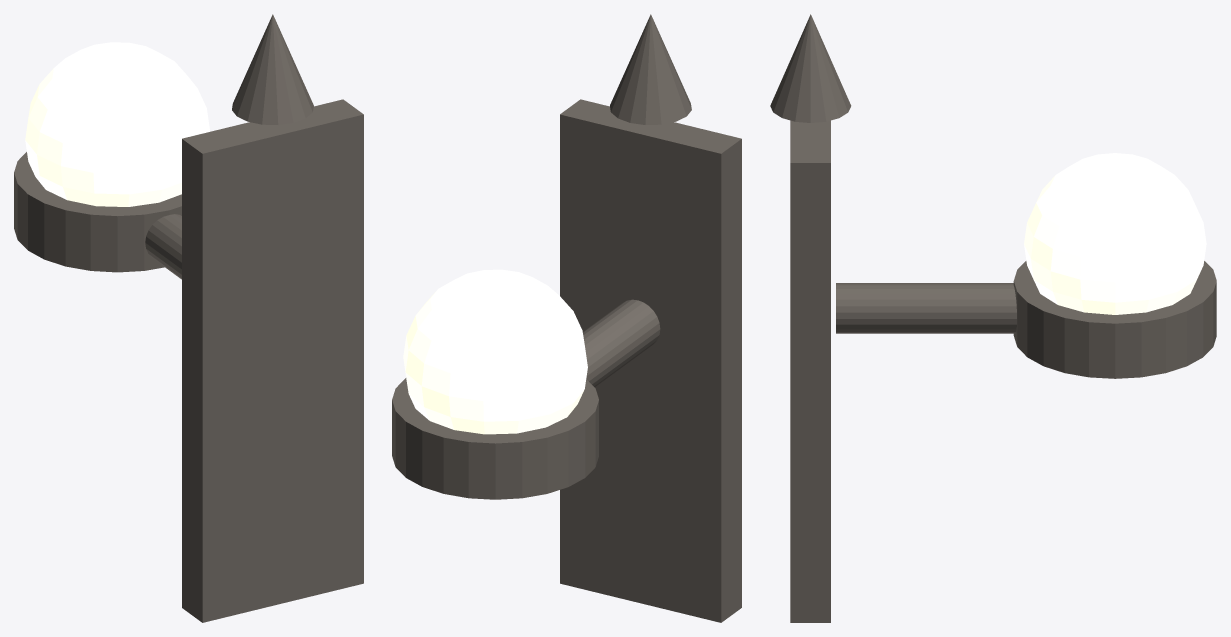
The model's file is WallSconceIron.fbx.
The picture shows the model from 3 angles, left to right: view 1: azimuth 30°, elevation 25°; view 2: azimuth 150°, elevation 25°; view 3: azimuth 270°, elevation 25°; orthographic projection.
Visible parts, largest first — view 1: WallSconceIron; view 2: WallSconceIron; view 3: WallSconceIron.
Boxes of the visible parts, x1=… form: WallSconceIron: x1=14, y1=14, x2=363, y2=622; WallSconceIron: x1=392, y1=14, x2=741, y2=622; WallSconceIron: x1=770, y1=14, x2=1216, y2=622.
Bounding box in the file's own units: 20 × 62 × 44.
